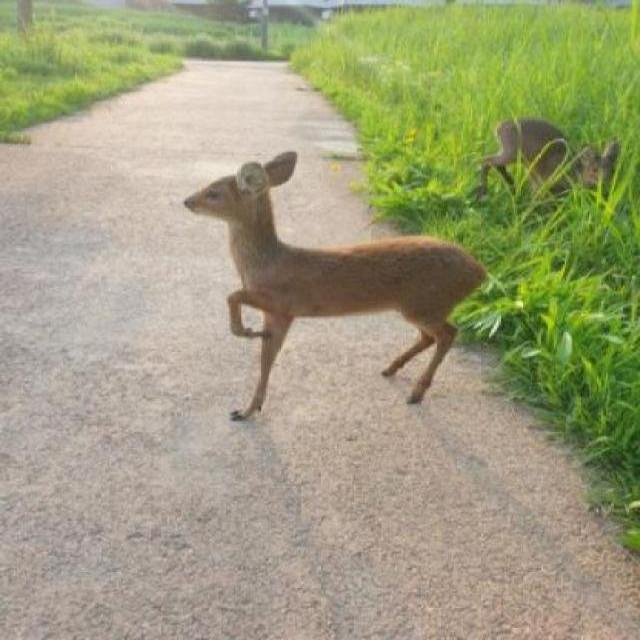deer: (180, 148, 497, 424), (468, 102, 638, 230)
